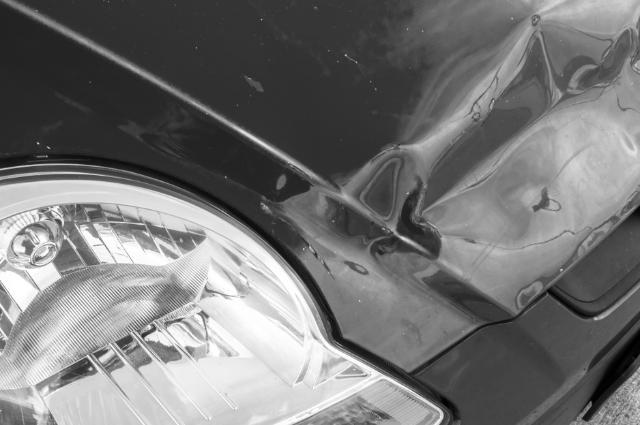Bonnet: (291, 13, 622, 312)
